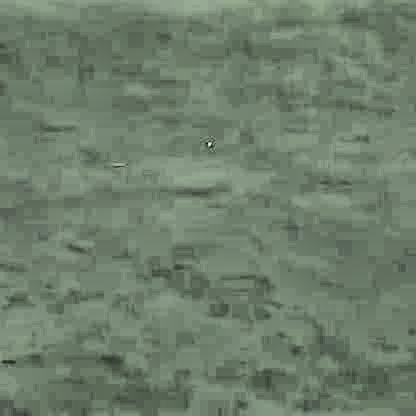golfball: (202, 140, 212, 147)
